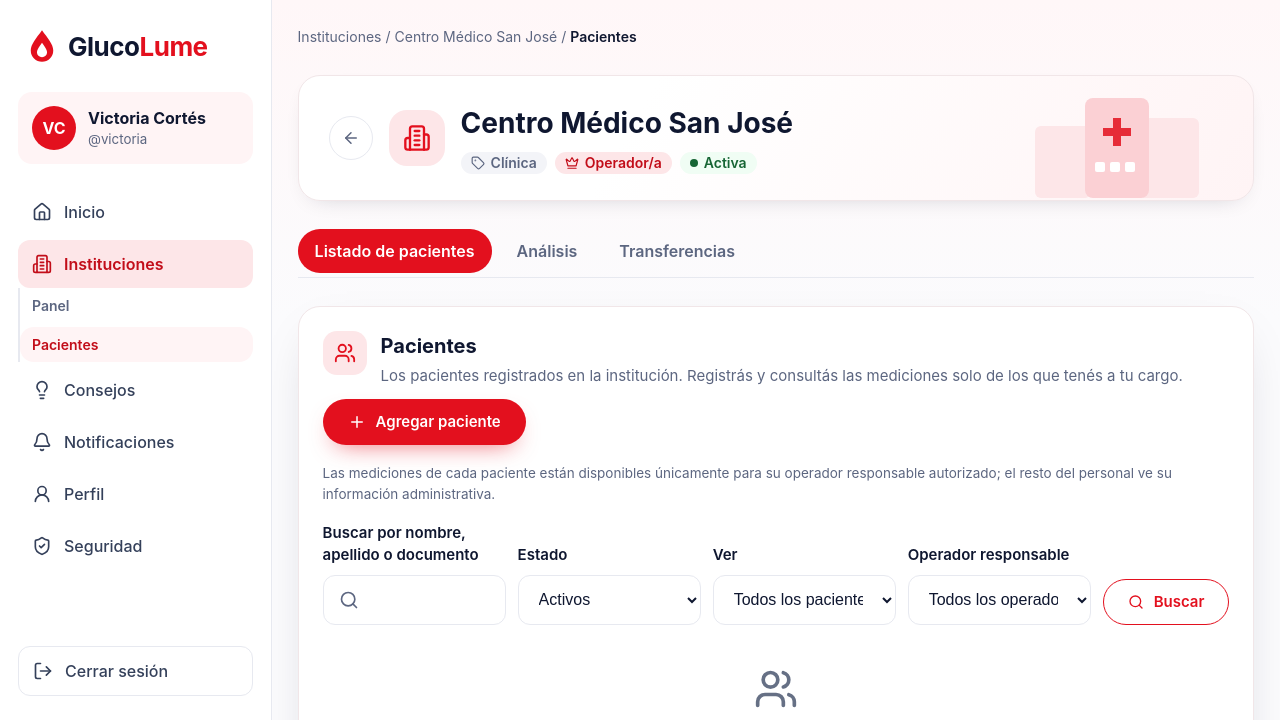
it: Listado de pacientes › el operador ve solo la fecha de conservación, sin el filtro de plazo
Select "Dados de baja" in the dropdown labelled "Estado" at (609, 600), box x1=518 y1=575 x2=701 y2=625
(page scrolled)
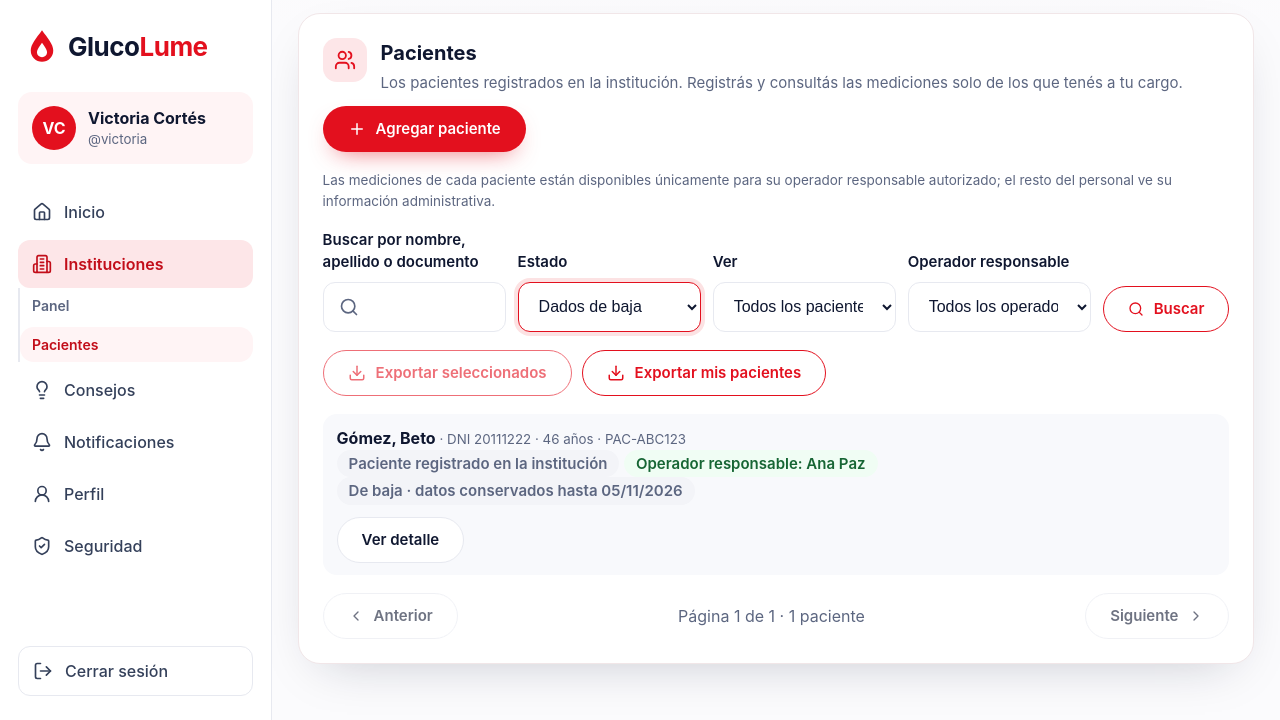
Check: the text "De baja · datos conservados hasta 05/11/2026" is shown, box x1=337 y1=477 x2=695 y2=505
